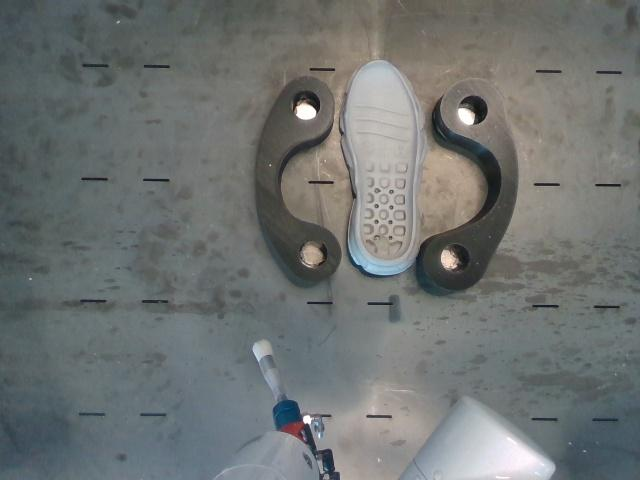shoes: (347, 61, 418, 260)
